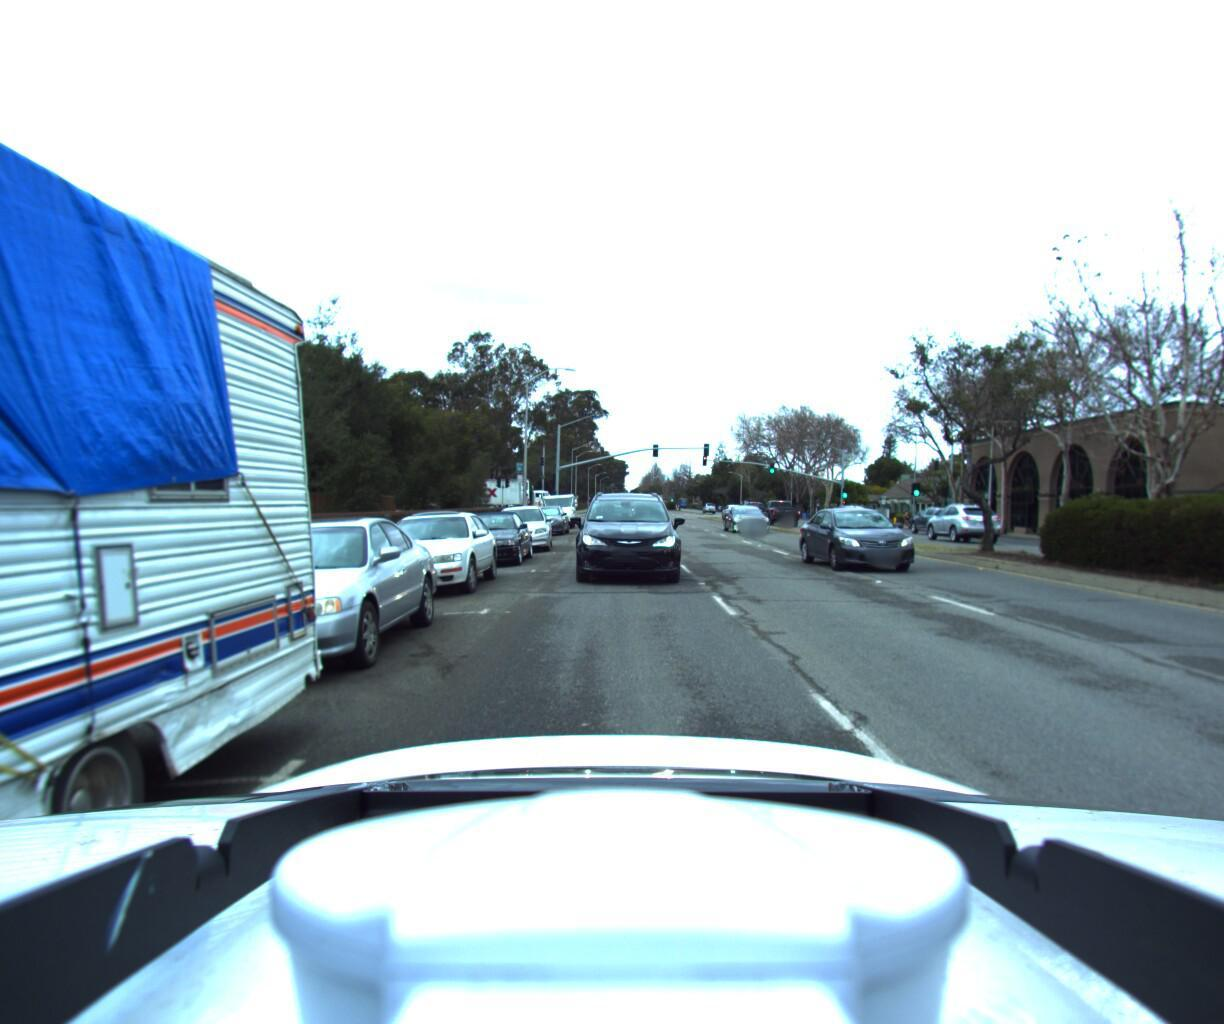car: (131, 513, 451, 697), (354, 508, 502, 604), (574, 485, 689, 589), (808, 501, 951, 575), (450, 509, 532, 570), (493, 504, 553, 556), (915, 504, 992, 543), (524, 504, 568, 539), (725, 501, 777, 531), (758, 498, 800, 527), (736, 498, 770, 523)
other_vehicle: (538, 493, 575, 528)
